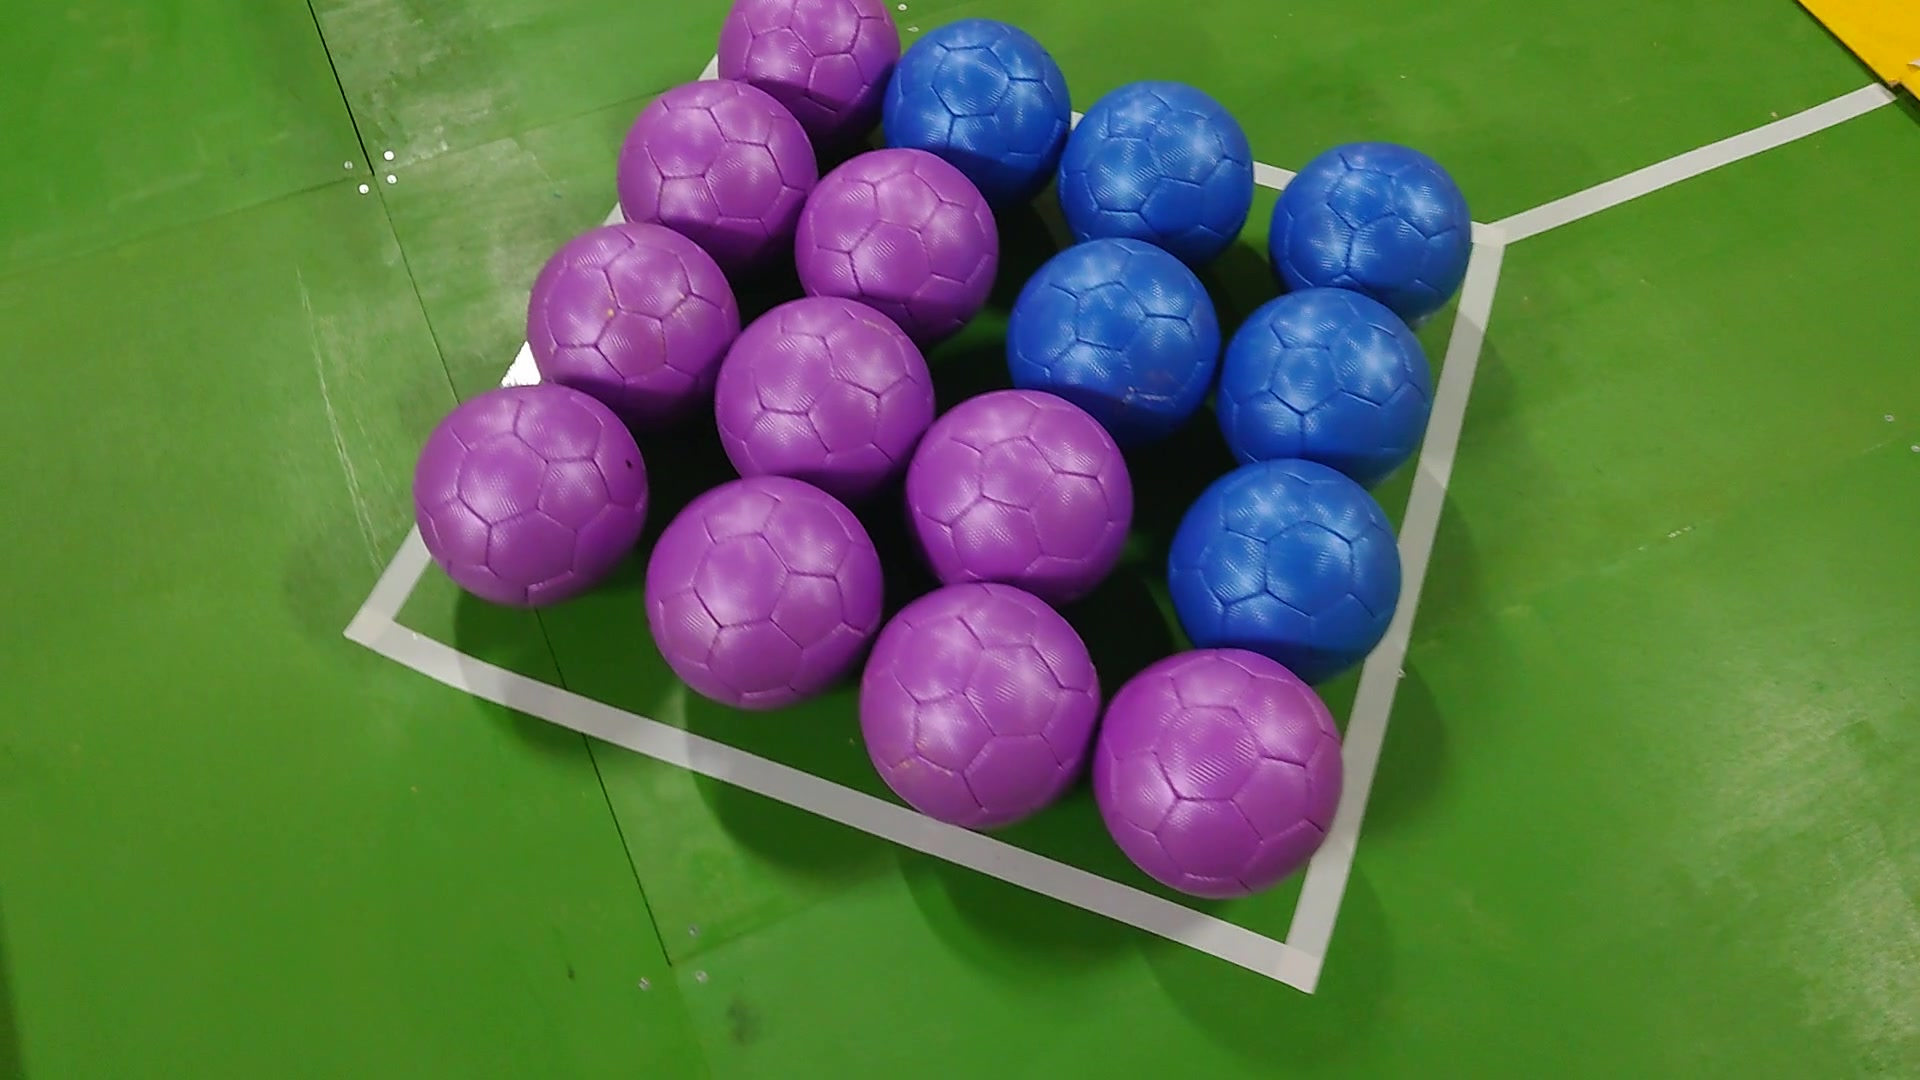blue: (1163, 454, 1411, 683), (1215, 284, 1431, 471), (1013, 235, 1215, 427), (882, 20, 1071, 203), (1058, 78, 1257, 248), (1263, 140, 1473, 301)
purple: (1100, 646, 1345, 898), (858, 578, 1097, 829), (646, 477, 882, 708), (411, 382, 644, 604), (907, 389, 1137, 595), (715, 290, 938, 496), (522, 222, 738, 425), (794, 150, 1000, 340), (617, 78, 820, 265), (715, 0, 901, 111)
